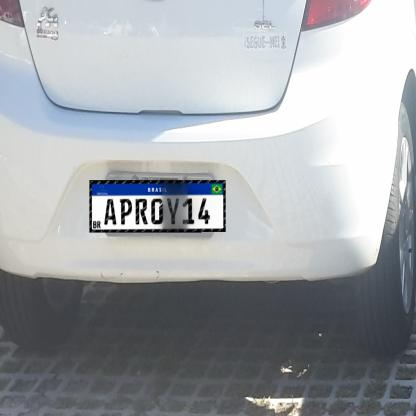PlacaM: (89, 180, 226, 233)
